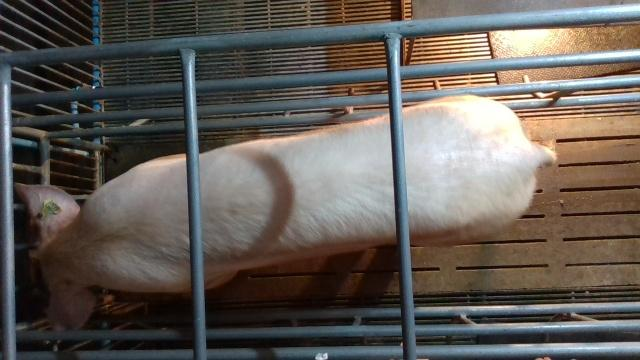sow-stand-feed: (14, 97, 558, 333)
